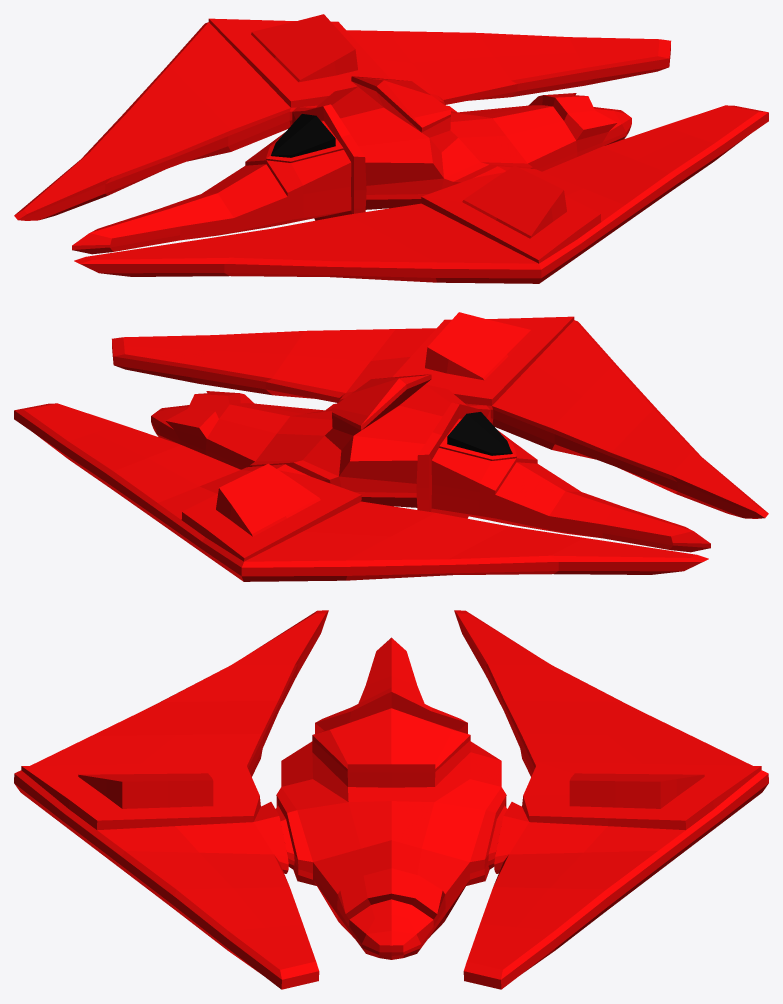
The model's file is Cameleon.fbx.
3 views of the same model, one above another, from view 1: azimuth 30°, elevation 25°; view 2: azimuth 150°, elevation 25°; view 3: azimuth 270°, elevation 25° (orthographic). The views are drawn at different scales.
Parts seen in each view (by area): view 1: Cube.002; view 2: Cube.002; view 3: Cube.002.
Part boxes in pixels (left/top/right/bottom): Cube.002: left=14, top=14, right=768, bottom=283; Cube.002: left=14, top=312, right=768, bottom=581; Cube.002: left=14, top=610, right=768, bottom=989.
Bounding box in the file's own units: 258 × 51.27 × 223.
